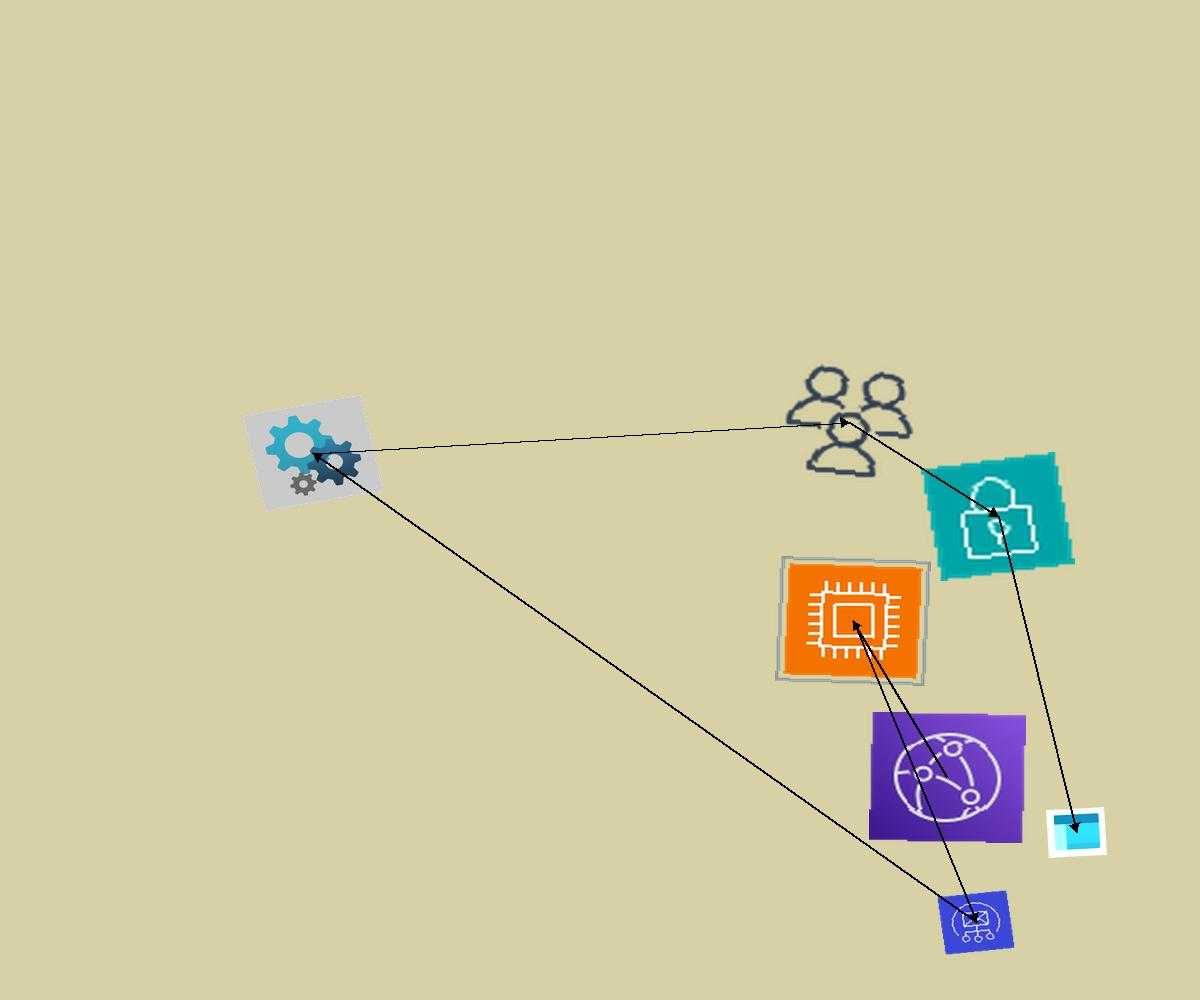AWS-Category_Compute: (775, 556, 931, 686)
AWS-CloudFront: (869, 712, 1026, 843)
AWS-Private-subnet: (921, 452, 1075, 581)
AWS-Res_Users: (769, 355, 930, 489)
AWS-Simple-Email-Service: (937, 890, 1015, 955)
Azure_api: (242, 394, 384, 512)
Azure_management-portal: (1046, 807, 1107, 858)
